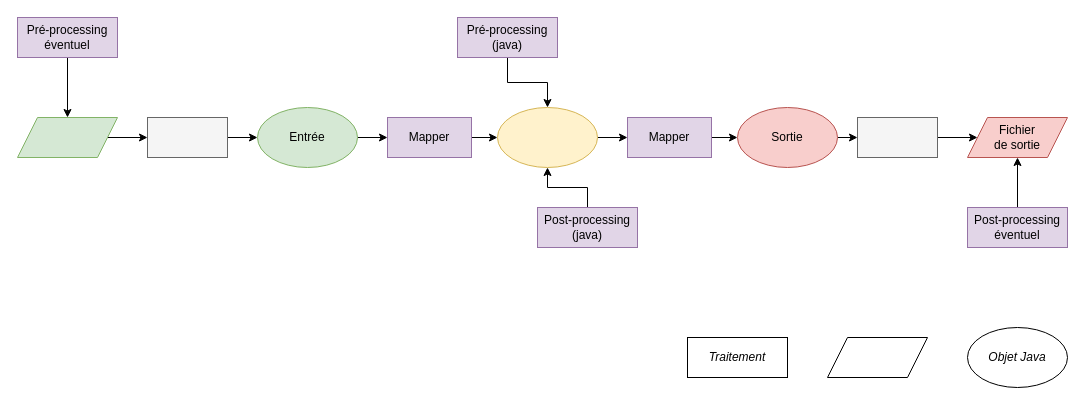
The diagram is 1085 pixels wide and 405 high, and some of its shapes have lost their labels. The centre of each missing label's shape, as x and y in pixels:
"Fichier" goes at point 877,357.
"Fichier d'entrée" goes at point 67,137.
"Modèle pivot" goes at point 547,137.
"Parser" goes at point 187,137.
"Writer" goes at point 897,137.
